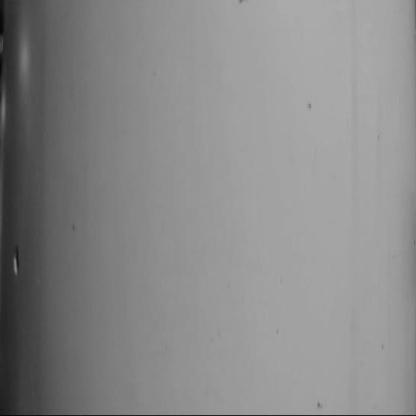kongdong: (8, 238, 33, 284)
